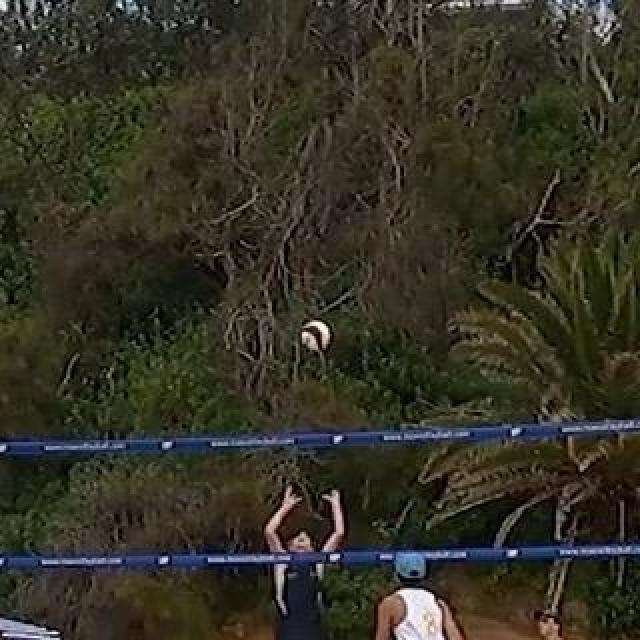volleyball: (302, 321, 332, 351)
